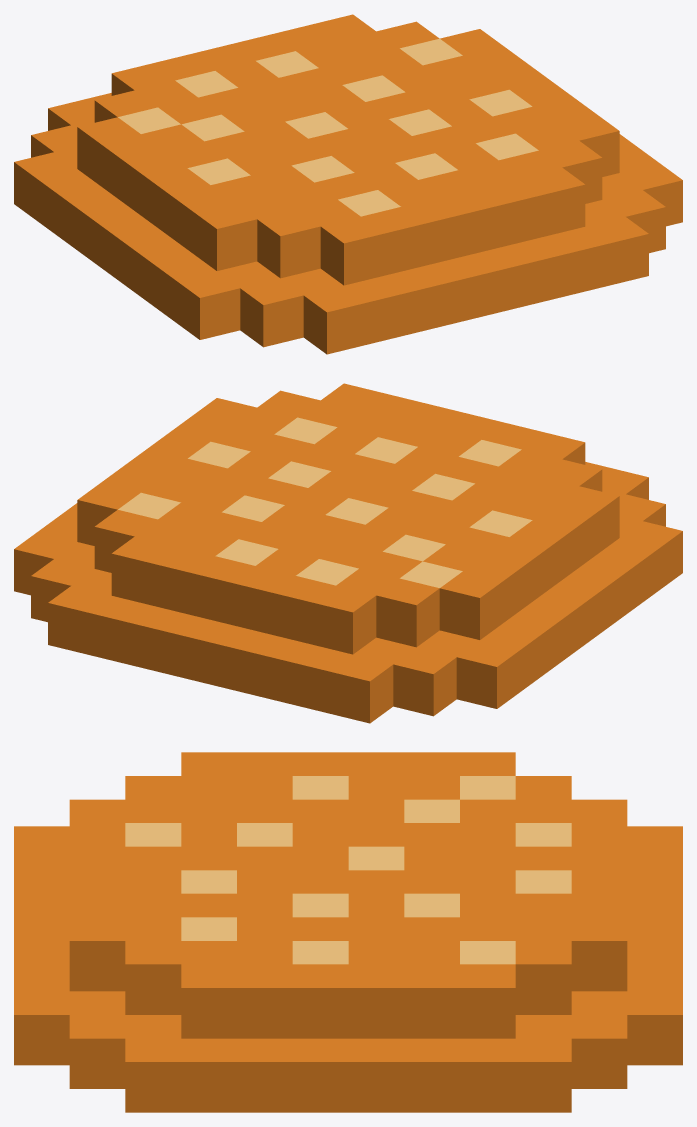
Rendered from bun_top.obj.
3 views of the same model, one above another, from view 1: azimuth 30°, elevation 25°; view 2: azimuth 150°, elevation 25°; view 3: azimuth 270°, elevation 25° (orthographic). The views are drawn at different scales.
Size of the model in its own units: 1.2 by 0.2 by 1.2.
Materials: 1 (1 with a texture image).
